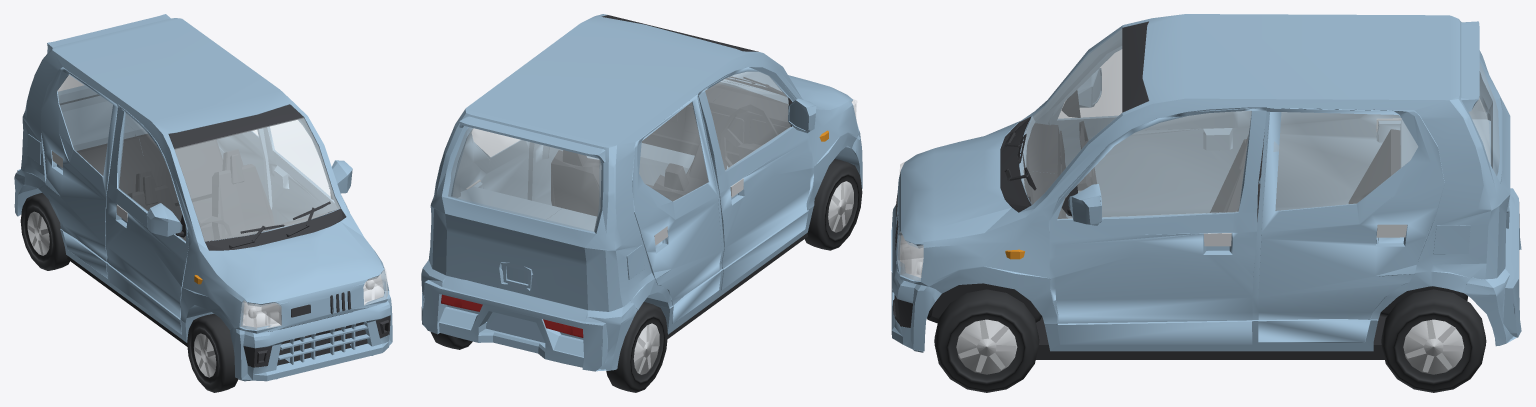
File: kei_tall_wagon.glb
3 views of the same model, side by side, from view 1: azimuth 30°, elevation 25°; view 2: azimuth 150°, elevation 25°; view 3: azimuth 270°, elevation 25° (orthographic). The views are drawn at different scales.
Parts seen in each view (by area): view 1: body, glass, trimBlack, wheelTire, clearLens, wheelRim, headlamp, undercarriage; view 2: body, glass, trimBlack, wheelTire, wheelRim, taillamp, undercarriage; view 3: body, glass, wheelTire, trimBlack, undercarriage, wheelRim, clearLens, silver, headlamp.
Boxes of the visible parts, x1,y1,x2,y2 form: body: (14, 14, 392, 381); glass: (57, 75, 340, 241); trimBlack: (77, 104, 390, 367); wheelTire: (20, 193, 238, 392); clearLens: (240, 268, 388, 330); wheelRim: (27, 211, 216, 377); headlamp: (242, 274, 384, 327); undercarriage: (67, 256, 351, 346); body: (421, 14, 862, 371); glass: (448, 71, 790, 231); trimBlack: (551, 15, 792, 216); wheelTire: (430, 159, 862, 392); wheelRim: (633, 181, 853, 374); taillamp: (441, 294, 583, 337); undercarriage: (667, 233, 807, 338); body: (891, 14, 1521, 352); glass: (1020, 28, 1499, 218); wheelTire: (934, 289, 1486, 392); trimBlack: (893, 21, 1400, 327); undercarriage: (927, 283, 1467, 359); wheelRim: (956, 319, 1464, 374); clearLens: (897, 162, 923, 280); silver: (1203, 118, 1407, 246); headlamp: (900, 235, 923, 277).
Size of the model in its own units: 1.69 by 1.69 by 3.42.
